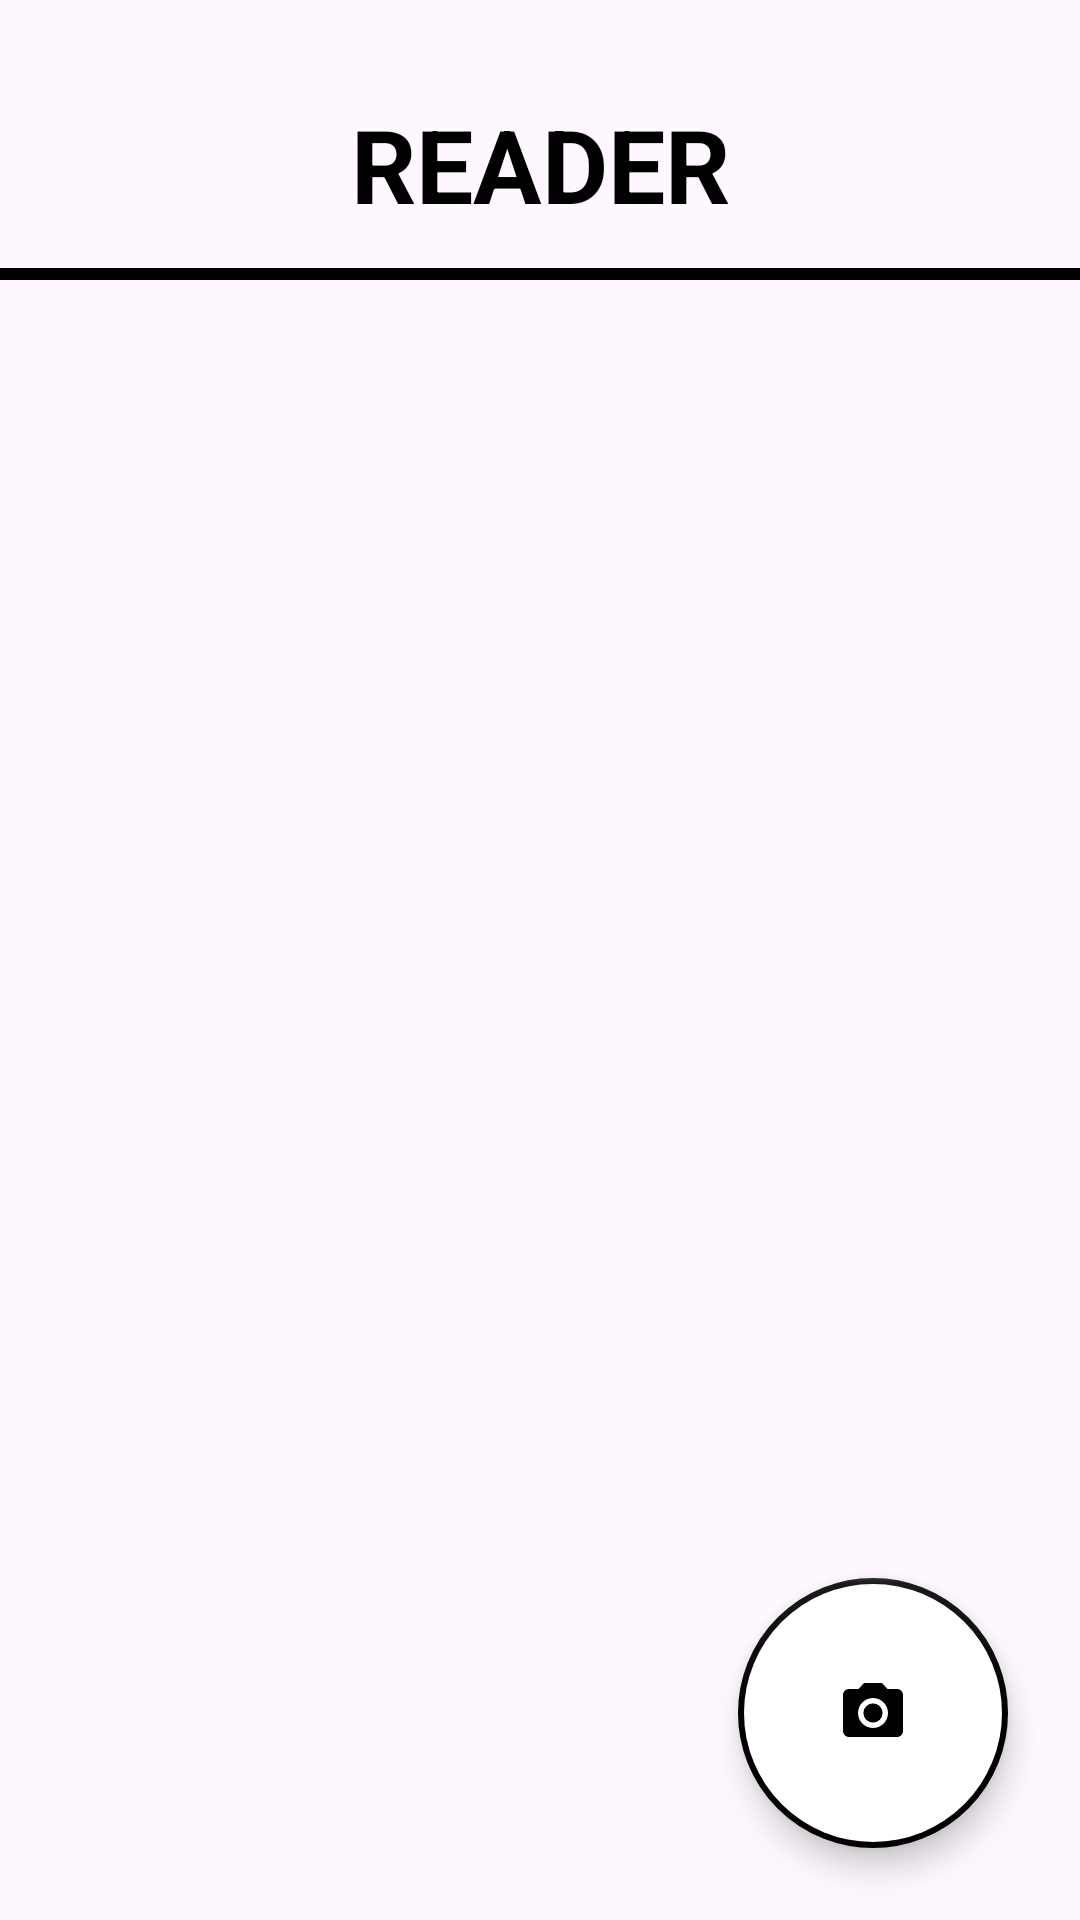

Named icons in this screenshot (1080w x 1920h) and their bounding boxes, (left=x1, top=y1, right=x2, bottom=y2):
Open camera: (left=738, top=1578, right=1008, bottom=1848)
